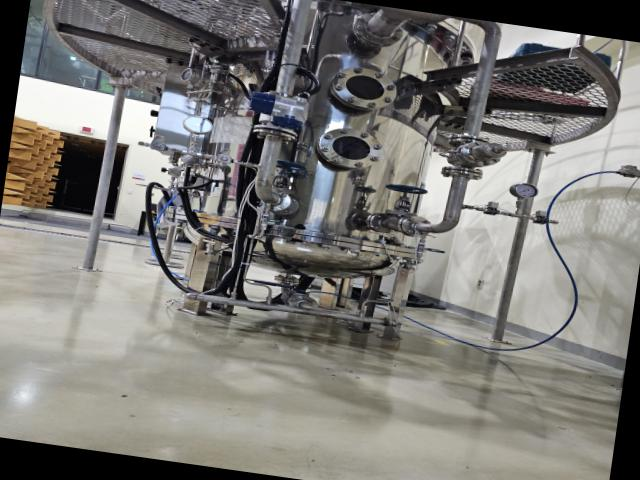Flange: (328, 63, 399, 114), (315, 124, 386, 173)
Flush Ring: (350, 11, 406, 49), (251, 121, 300, 146), (250, 186, 293, 214), (396, 213, 434, 239), (447, 132, 494, 153), (440, 163, 484, 183), (366, 211, 398, 235), (288, 294, 320, 314)
GasRegulator: (177, 60, 247, 117)
Nuts: (210, 152, 240, 166), (143, 140, 172, 153), (476, 206, 506, 218), (528, 214, 554, 226)
Piston Valve: (381, 183, 428, 220), (271, 158, 308, 197)
Pressure Gage: (178, 114, 215, 156), (505, 181, 540, 218)
